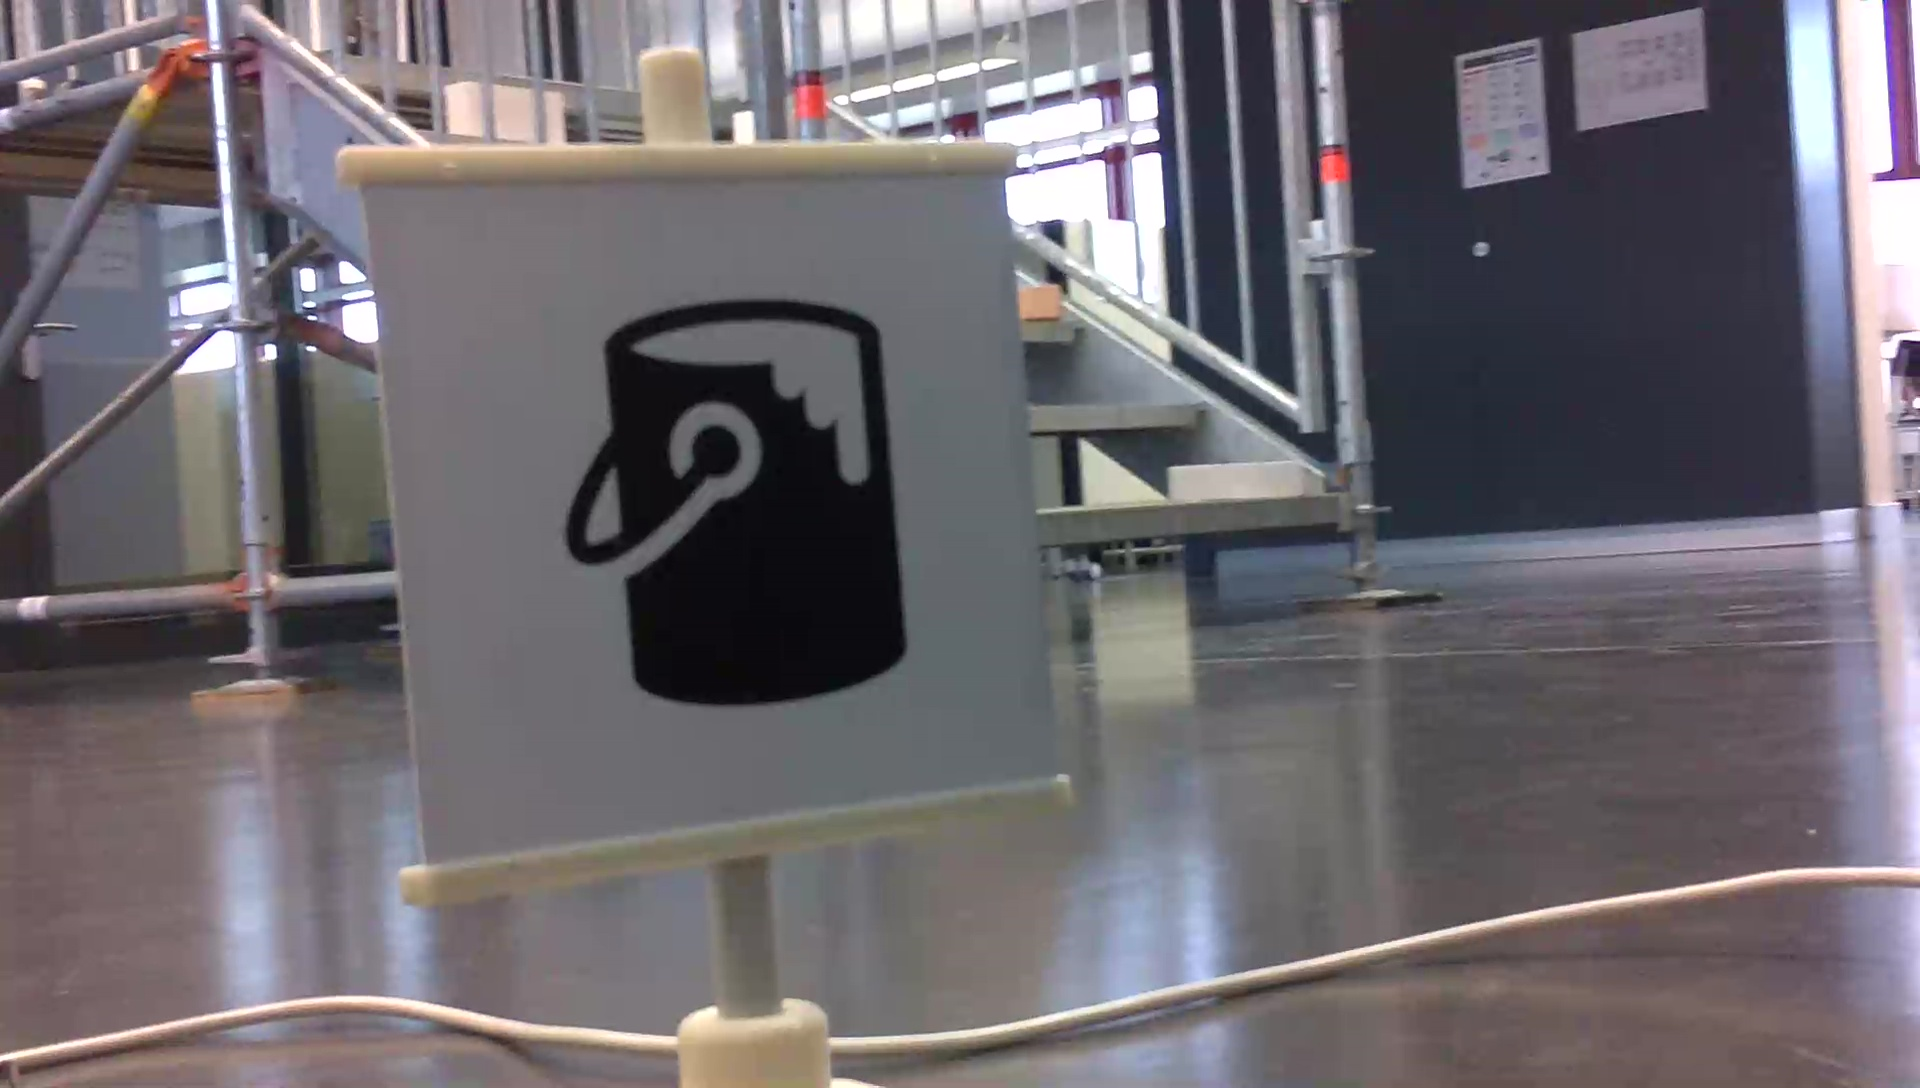brick: (1172, 466, 1303, 499)
bucket: (553, 291, 918, 719)
edge: (1035, 499, 1337, 543), (1027, 404, 1211, 433)
